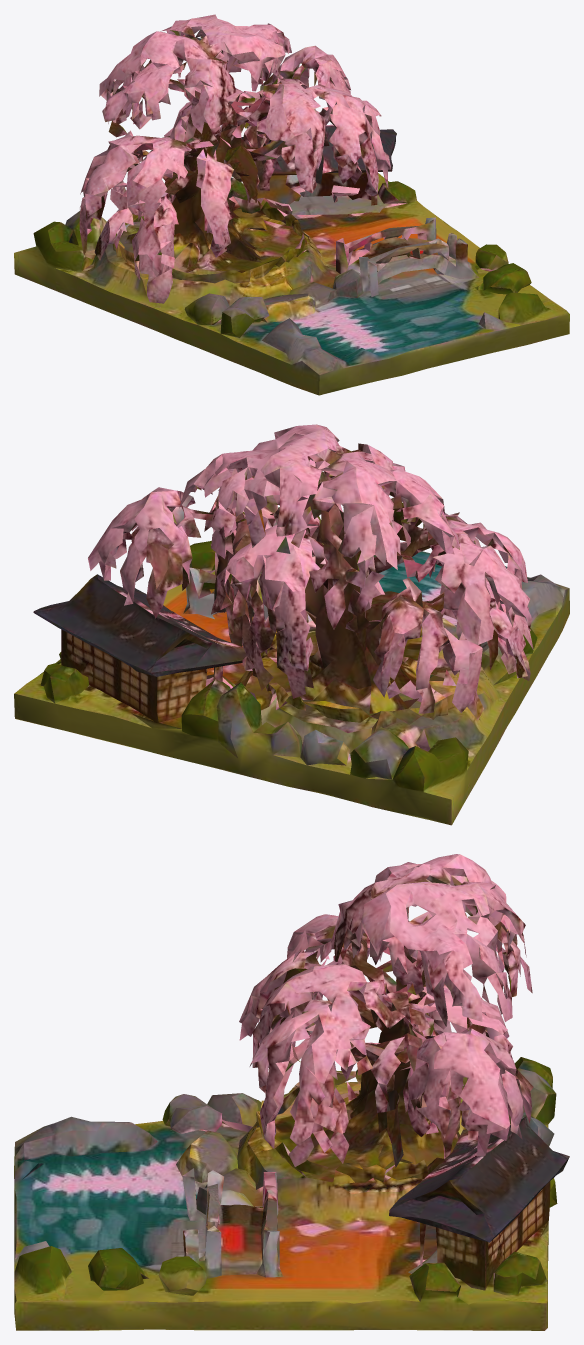
The model's file is maruyama-park-kyoto.glb.
3 views of the same model, one above another, from view 1: azimuth 30°, elevation 25°; view 2: azimuth 150°, elevation 25°; view 3: azimuth 270°, elevation 25° (orthographic). The views are drawn at different scales.
Parts seen in each view (by area): view 1: logan-textured.obj; view 2: logan-textured.obj; view 3: logan-textured.obj.
Part boxes in pixels (left/top/right/bottom): logan-textured.obj: left=14, top=14, right=569, bottom=395; logan-textured.obj: left=14, top=424, right=569, bottom=825; logan-textured.obj: left=14, top=854, right=569, bottom=1330.
Bounding box in the file's own units: 0.9929 × 0.6398 × 1.
Materials: 1 (1 with a texture image).
